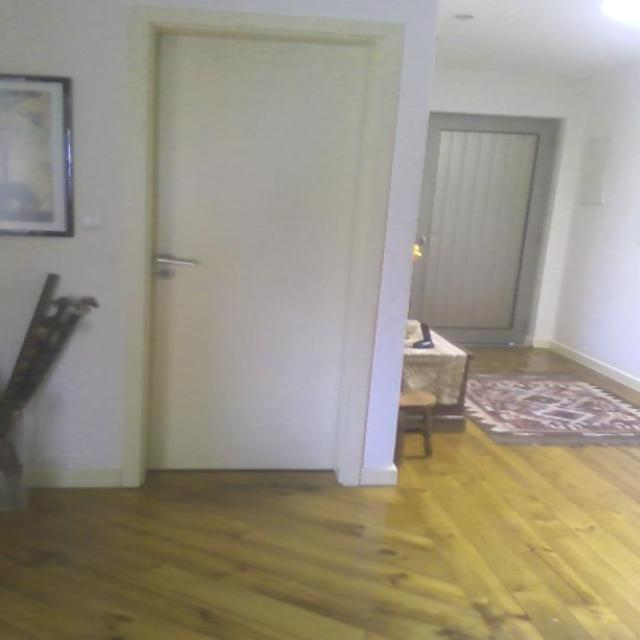door: (145, 25, 378, 475)
